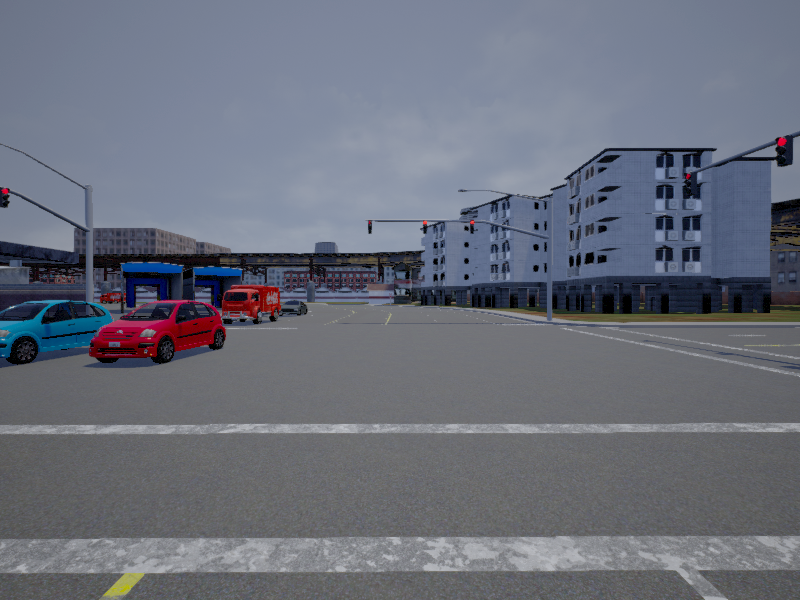Benign: (91, 303, 226, 362), (1, 302, 120, 363), (220, 285, 283, 325), (282, 299, 308, 318)
